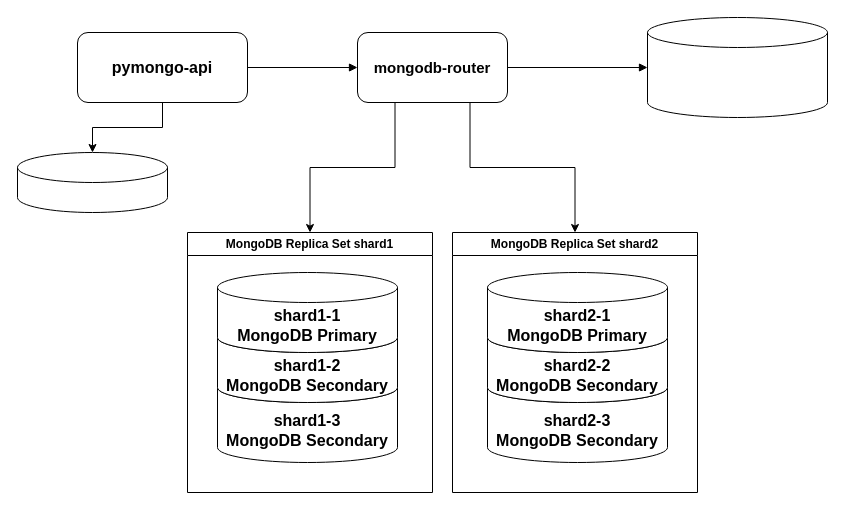
Image size: 845x510. Some labels were removed from this diagram. Here are the shapes that lost their labels. From the top down, the centre of each, then its label:
(x=737, y=67): configSrv MongoDB Config Server
(x=92, y=182): Redis
